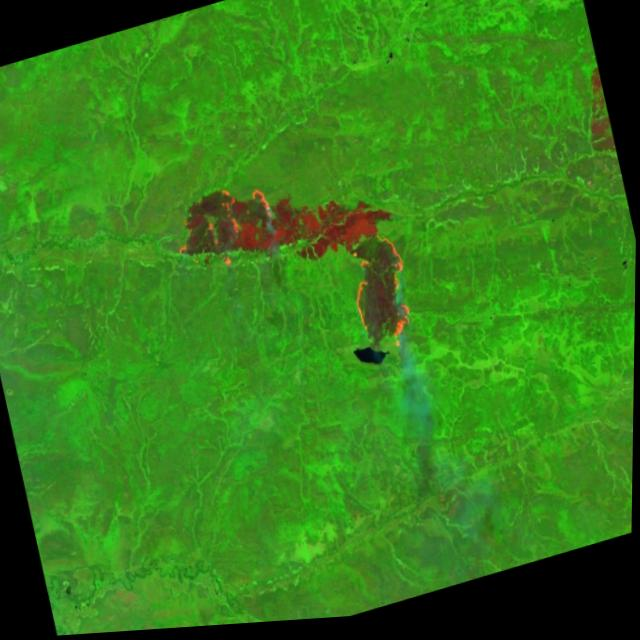fire: (337, 229, 426, 368), (166, 183, 283, 286)
